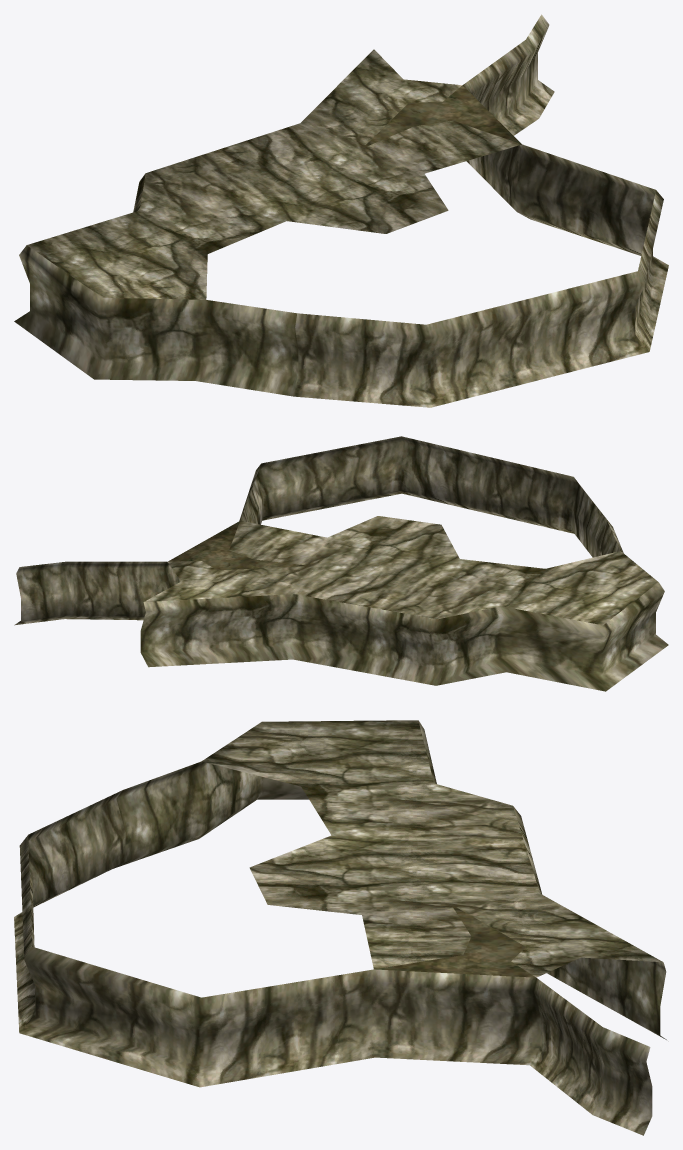
File: CB_NEWPLAYSURFACE_CB_PLAYSURFACE129.fbx
3 renders of one model, top to bottom at view 1: azimuth 30°, elevation 25°; view 2: azimuth 150°, elevation 25°; view 3: azimuth 270°, elevation 25°, orthographic. The views are drawn at different scales.
Visible parts, largest first — view 1: CB_NEWPLAYSURFACE_CB_PLAYSURFACE129; view 2: CB_NEWPLAYSURFACE_CB_PLAYSURFACE129; view 3: CB_NEWPLAYSURFACE_CB_PLAYSURFACE129.
Boxes of the visible parts, left/top/right/bottom form: CB_NEWPLAYSURFACE_CB_PLAYSURFACE129: left=14, top=14, right=668, bottom=407; CB_NEWPLAYSURFACE_CB_PLAYSURFACE129: left=14, top=436, right=668, bottom=691; CB_NEWPLAYSURFACE_CB_PLAYSURFACE129: left=14, top=720, right=666, bottom=1135.
Size of the model in its own units: 255230 by 29558 by 210058.
Materials: 3 (3 with a texture image).
